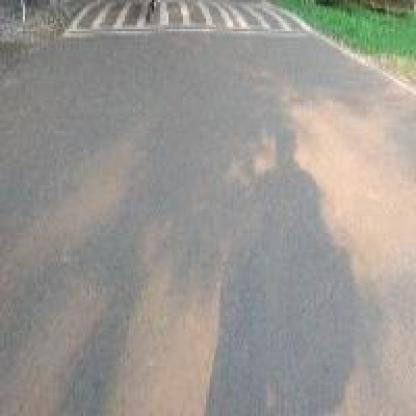Speed Bump: (162, 2, 306, 29), (64, 0, 140, 36)
